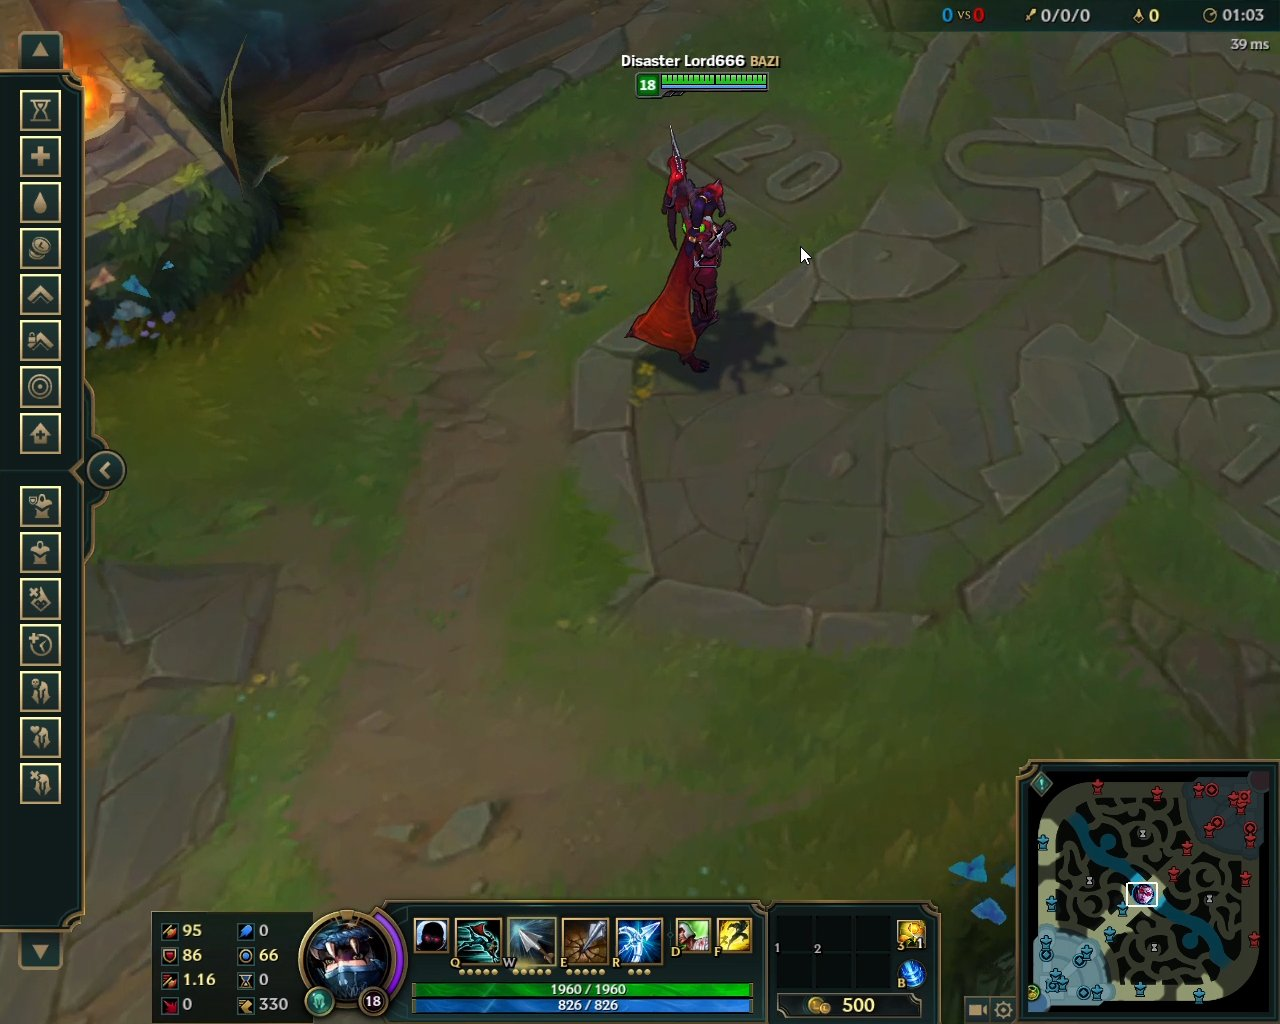Vayne: (612, 118, 766, 381)
